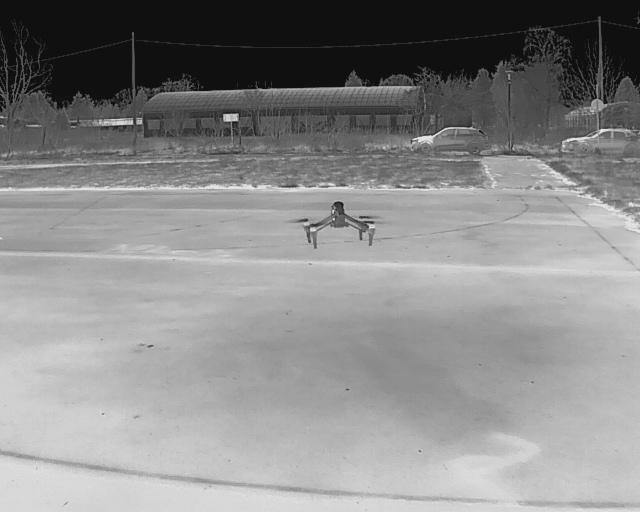drone: (283, 186, 395, 262)
